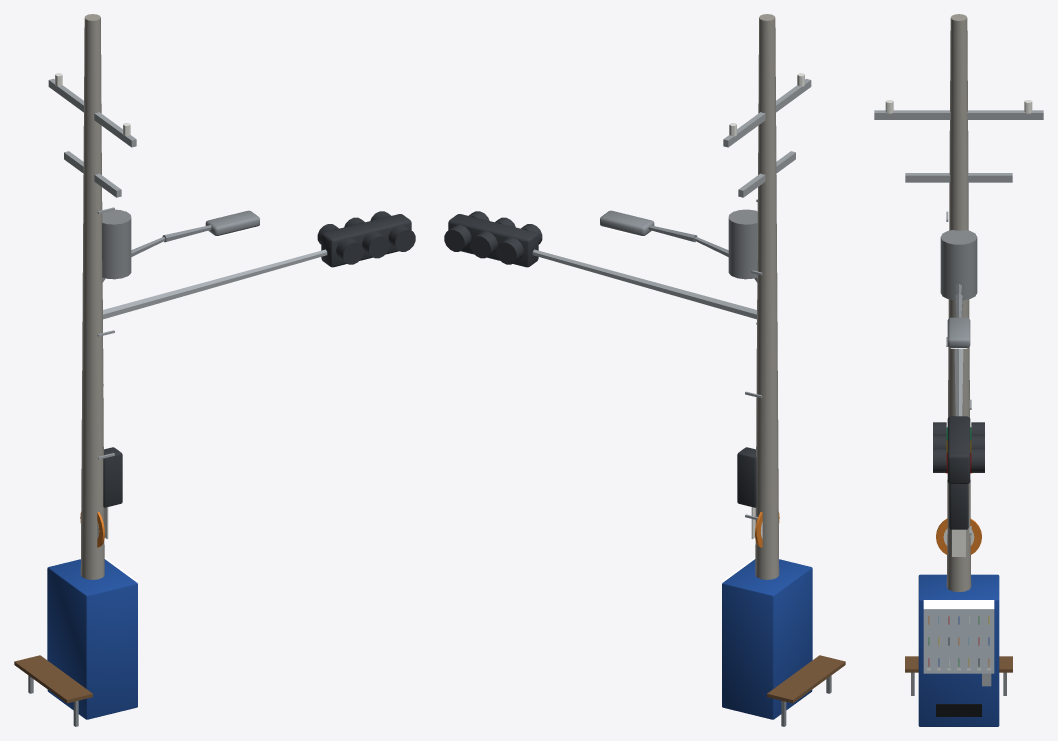
The model's file is props.glb.
3 views of the same model, side by side, from view 1: azimuth 30°, elevation 25°; view 2: azimuth 150°, elevation 25°; view 3: azimuth 270°, elevation 25° (orthographic). The views are drawn at different scales.
Parts seen in each view (by area): view 1: pole, vending_blue, signal, busstop, lamp; view 2: pole, vending_blue, signal, busstop, lamp; view 3: pole, vending_blue, signal, busstop, lamp.
Boxes of the visible parts, x1,y1,x2,y2 form: pole: (48, 14, 136, 579); vending_blue: (47, 557, 137, 719); signal: (103, 211, 415, 507); busstop: (14, 512, 104, 726); lamp: (102, 210, 259, 282); pole: (723, 14, 811, 579); vending_blue: (722, 557, 812, 719); signal: (444, 211, 756, 507); busstop: (755, 512, 845, 726); lamp: (600, 210, 757, 282); pole: (874, 14, 1043, 591); vending_blue: (918, 574, 999, 726); signal: (933, 348, 984, 529); busstop: (905, 518, 1012, 695); lamp: (947, 284, 970, 348).
Size of the model in its own units: 5.62 by 10 by 2.2.
